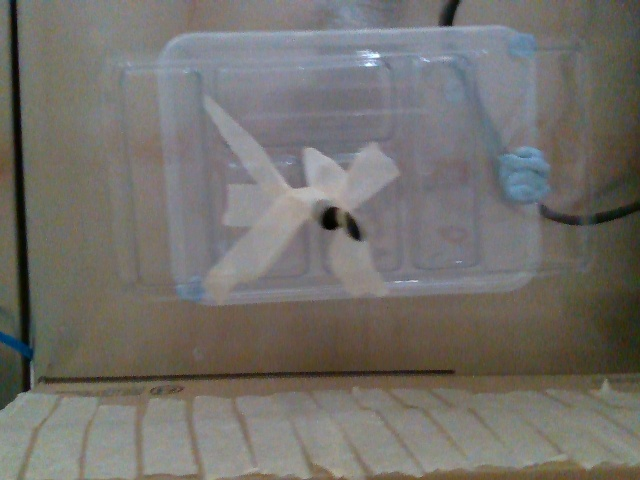test_strip: (335, 207, 360, 242)
